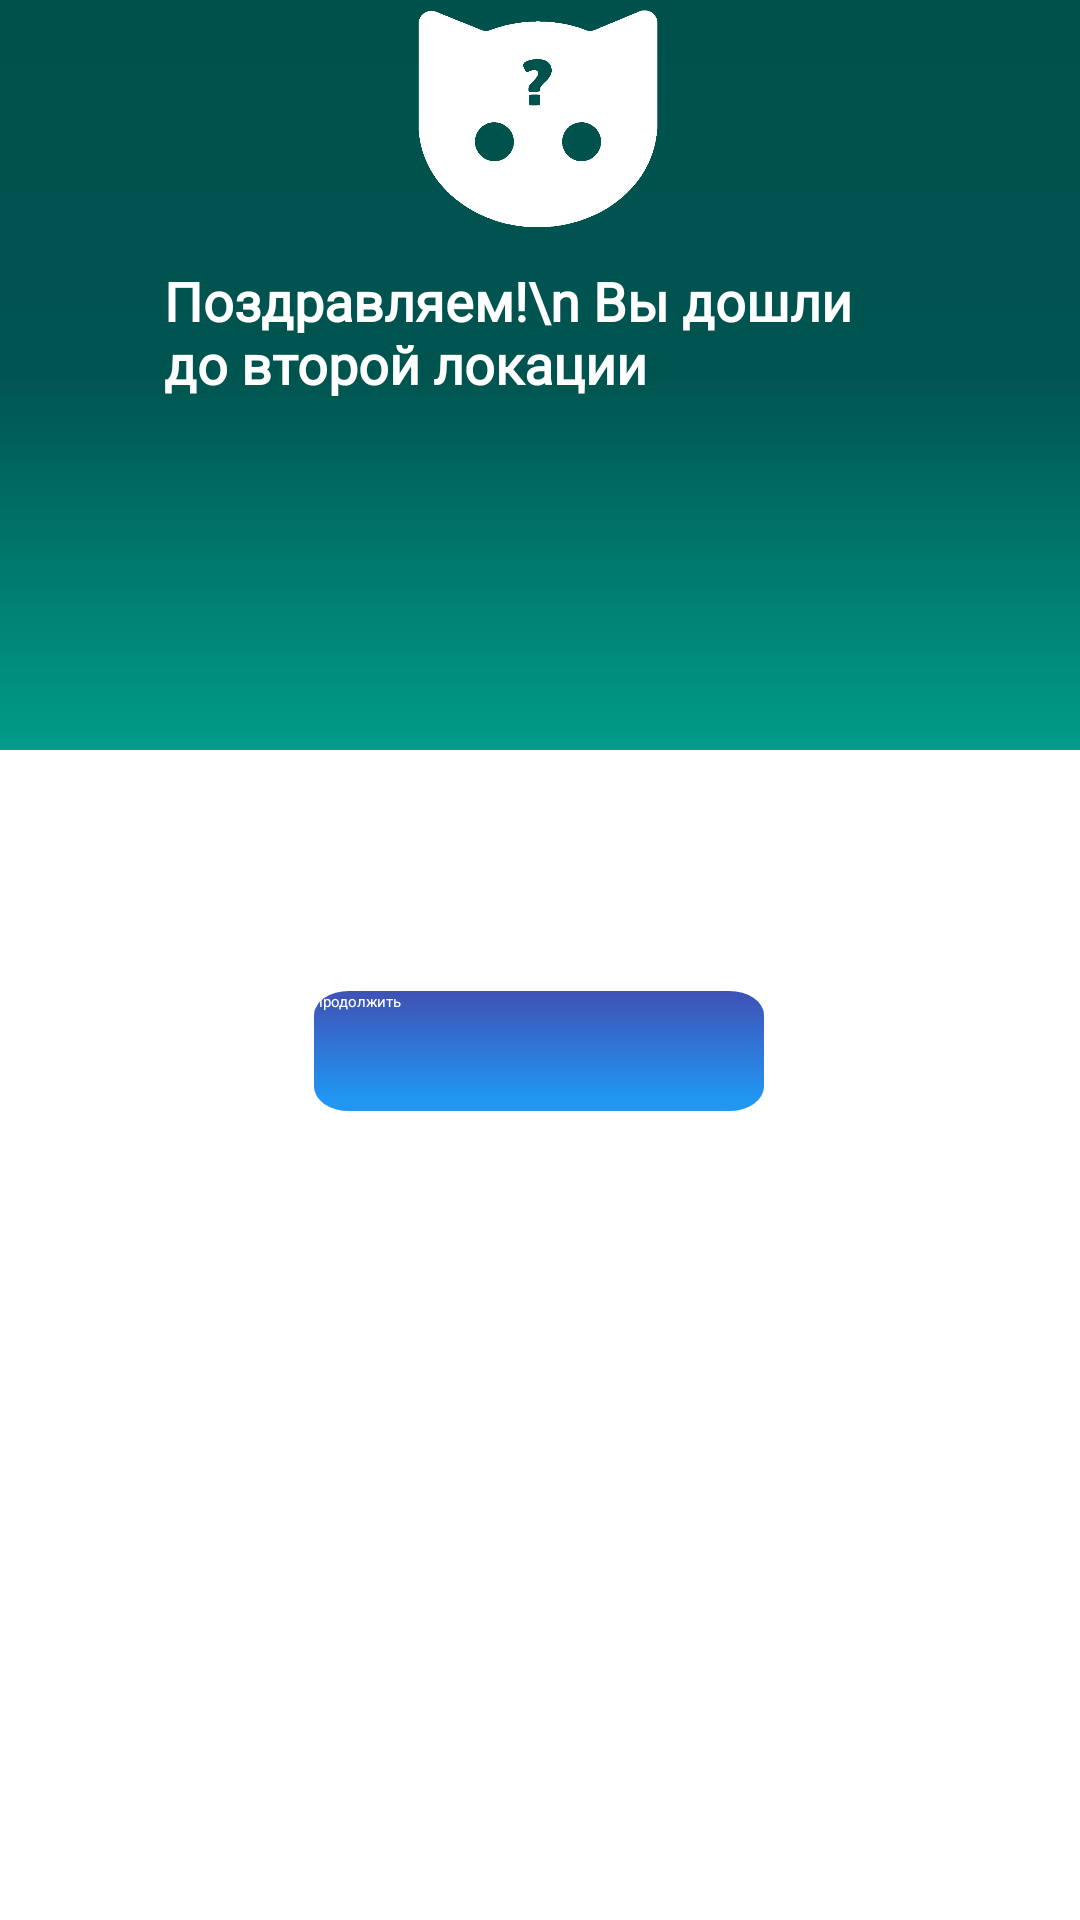

Named icons in this screenshot (1080px×1920px) and their bounding boxes, (x1, y1, x2, y2):
some cat: (418, 10, 658, 227)
